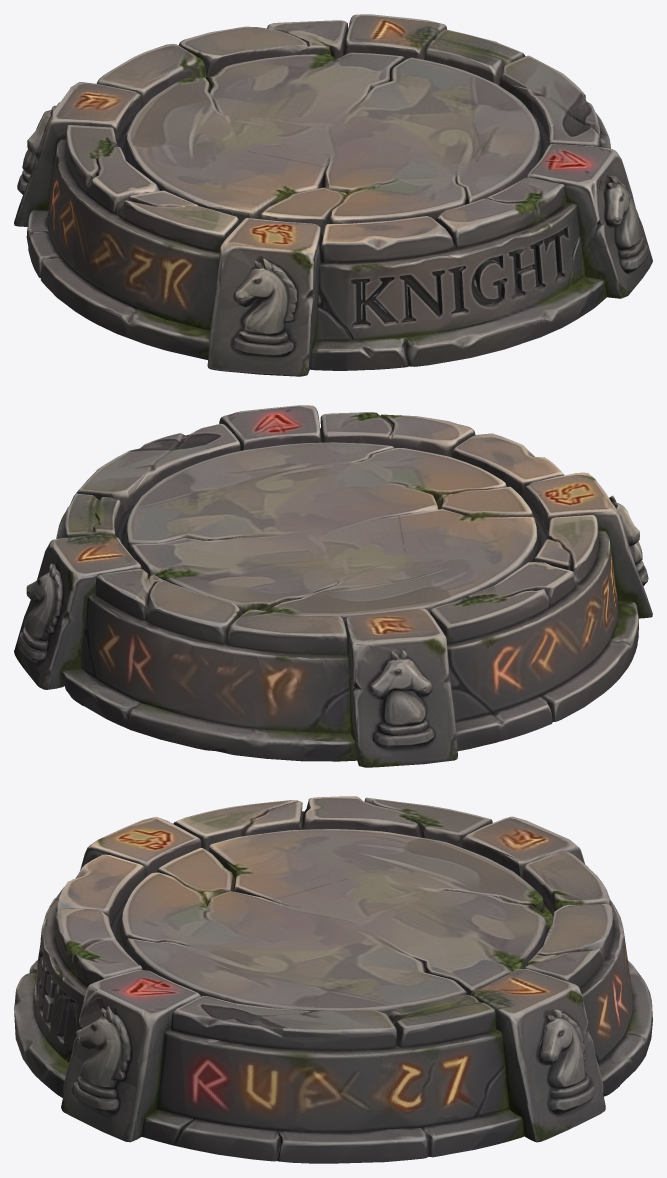
File: knight_foundation.glb
3 views of the same model, one above another, from view 1: azimuth 30°, elevation 25°; view 2: azimuth 150°, elevation 25°; view 3: azimuth 270°, elevation 25° (orthographic). The views are drawn at different scales.
Parts seen in each view (by area): view 1: Mesh_0; view 2: Mesh_0; view 3: Mesh_0.
Part boxes in pixels (box(x1,y1,x2,y2)): Mesh_0: box(14, 14, 652, 376); Mesh_0: box(14, 405, 652, 767); Mesh_0: box(14, 796, 652, 1163).
Bounding box in the file's own units: 1.9 × 0.3905 × 1.9.
Materials: 1 (1 with a texture image).
